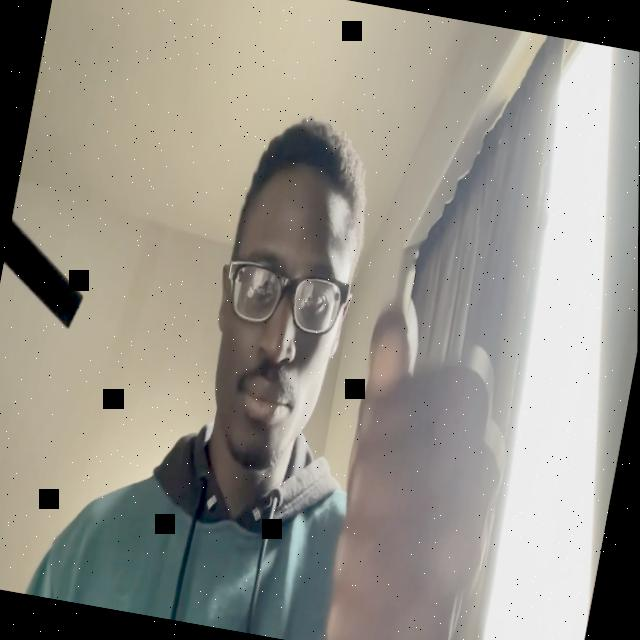Rock: (313, 297, 531, 640)
